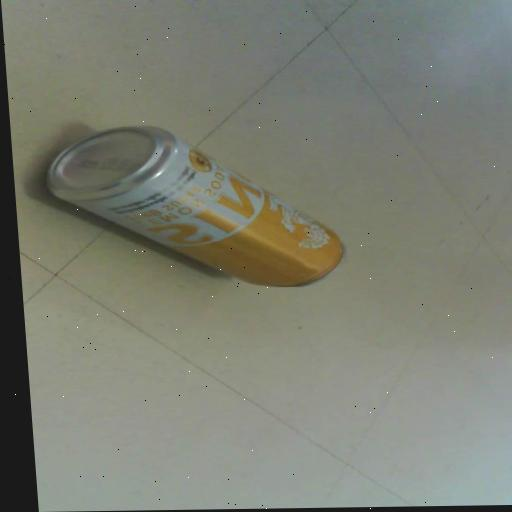canned: (26, 115, 359, 301)
